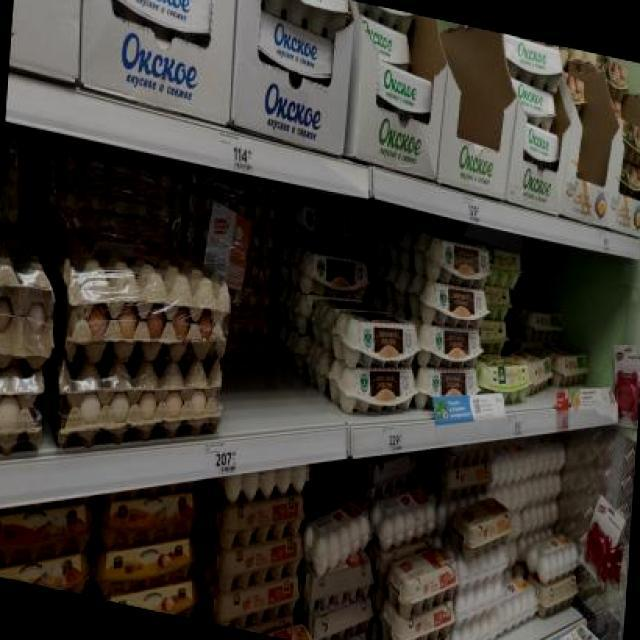egg: (332, 300, 422, 378), (329, 352, 419, 428), (255, 11, 337, 84), (290, 240, 373, 308), (408, 270, 491, 336), (410, 228, 494, 293), (278, 193, 362, 254), (102, 0, 216, 42), (413, 358, 483, 419), (416, 318, 486, 378), (498, 33, 565, 90), (376, 60, 434, 120), (508, 76, 558, 121), (522, 120, 560, 168)
